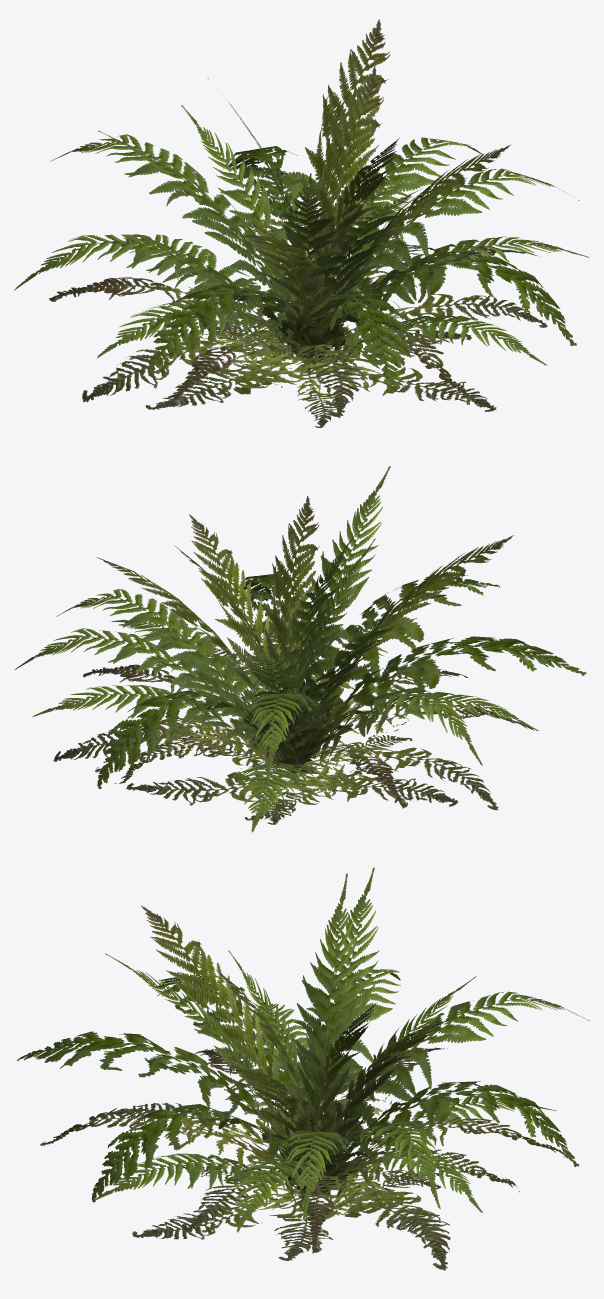
File: PW_Plant_Fern_01_02.fbx
3 renders of one model, top to bottom at view 1: azimuth 30°, elevation 25°; view 2: azimuth 150°, elevation 25°; view 3: azimuth 270°, elevation 25°, orthographic. The views are drawn at different scales.
Visible parts, largest first — view 1: PW_Flower_Fern_02_LOD0; view 2: PW_Flower_Fern_02_LOD0; view 3: PW_Flower_Fern_02_LOD0.
Boxes of the visible parts, bbox=[...] form: PW_Flower_Fern_02_LOD0: bbox=[14, 19, 589, 427]; PW_Flower_Fern_02_LOD0: bbox=[14, 466, 586, 832]; PW_Flower_Fern_02_LOD0: bbox=[17, 867, 589, 1270].
Size of what is drawn, in the model's own units: 157 by 87.1 by 158.
